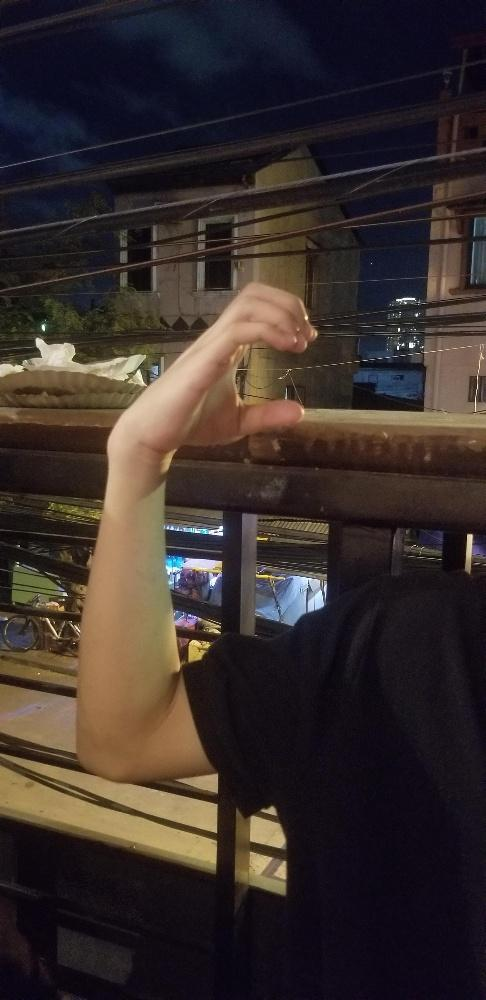c: (133, 279, 320, 445)
